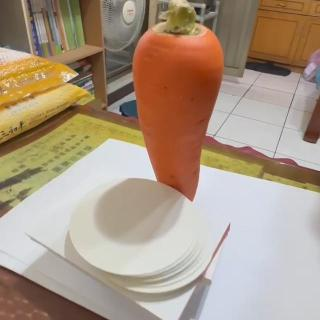carrot: (131, 0, 225, 202)
